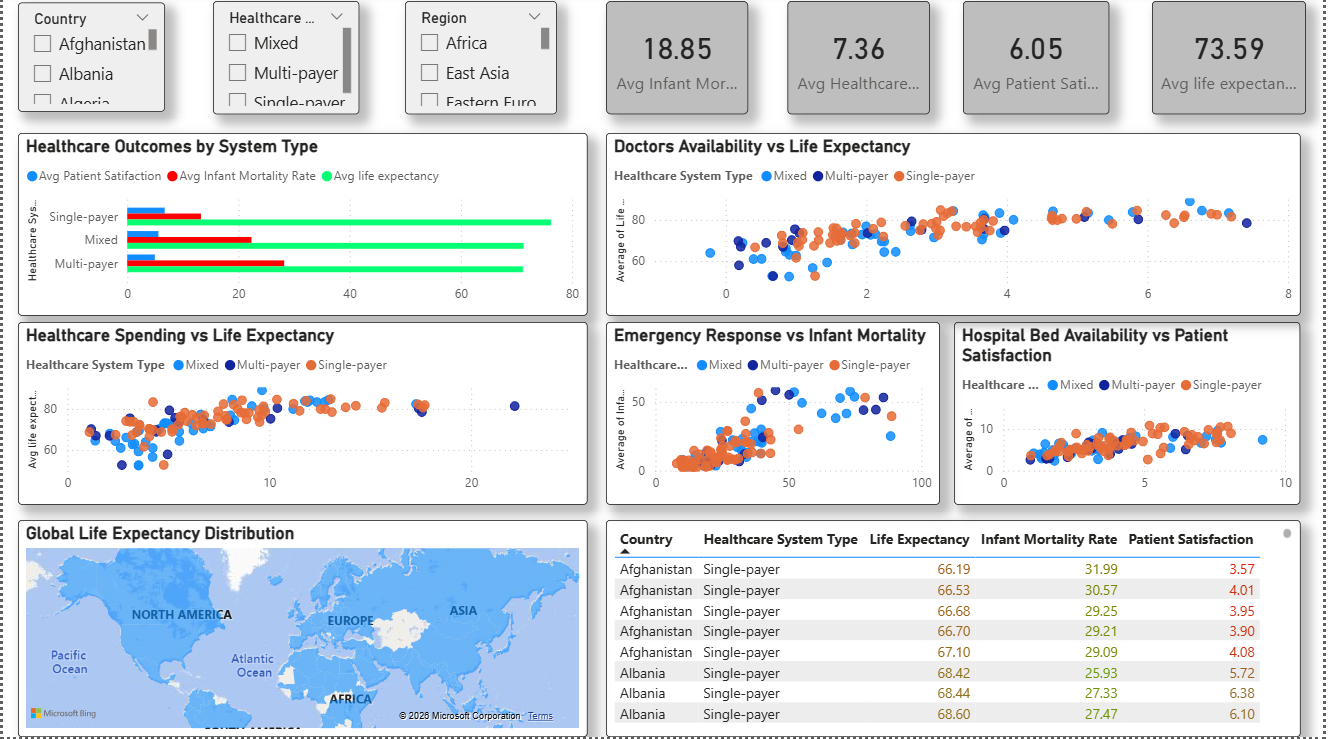

The page's visual inventory and layout, read from the dashboard file:
{"tool":"powerbi","page":{"name":"Page 1","canvas":[1280,720],"ordinal":0},"visuals":[{"type":"card","fields":{"Values":["Healthcare_System_Performance_Dataset.Average Infant Mortality Rate"]},"box":[584.8,5.7,138.2,109.8],"z":0},{"type":"card","fields":{"Values":["Healthcare_System_Performance_Dataset.Avg life expectancy"]},"box":[1114.7,5.7,149.5,109.8],"z":1000},{"type":"card","fields":{"Values":["Healthcare_System_Performance_Dataset.Avg Healthcare spending"]},"box":[760.8,5.7,138.2,109.8],"z":2000},{"type":"card","fields":{"Values":["Healthcare_System_Performance_Dataset.Average Patient Satifaction score"]},"box":[931.1,5.7,141.9,109.8],"z":3000},{"type":"clusteredBarChart","title":"Healthcare Outcomes by System Type","fields":{"Category":["Healthcare_System_Performance_Dataset.Healthcare System Type"],"Y":["Healthcare_System_Performance_Dataset.Average Patient Satifaction score","Healthcare_System_Performance_Dataset.Average Infant Mortality Rate","Healthcare_System_Performance_Dataset.Avg life expectancy"]},"box":[15.1,133.3,552.7,177.2],"z":4000},{"type":"tableEx","fields":{"Values":["Healthcare_System_Performance_Dataset.Country","Healthcare_System_Performance_Dataset.Healthcare System Type","Healthcare_System_Performance_Dataset.Life Expectancy","Healthcare_System_Performance_Dataset.Infant Mortality Rate","Healthcare_System_Performance_Dataset.Patient Satisfaction"]},"box":[584.5,508.8,673.8,210.5],"z":5000},{"type":"slicer","fields":{"Values":["Healthcare_System_Performance_Dataset.Country"]},"box":[14.6,7.3,142.6,106.3],"z":6000},{"type":"slicer","fields":{"Values":["Healthcare_System_Performance_Dataset.Healthcare System Type"]},"box":[204.4,5.7,141.9,109.8],"z":7000},{"type":"slicer","fields":{"Values":["Healthcare_System_Performance_Dataset.Region"]},"box":[389.9,5.7,147.6,109.8],"z":8000},{"type":"scatterChart","title":"Healthcare Spending vs Life Expectancy","fields":{"Y":["Healthcare_System_Performance_Dataset.Avg life expectancy"],"Series":["Healthcare_System_Performance_Dataset.Healthcare System Type"],"X":["Healthcare_System_Performance_Dataset.Avg Healthcare spending(%GDP)"],"Category":["Healthcare_System_Performance_Dataset.Country"]},"box":[15.1,318,552.7,177.2],"z":9000},{"type":"filledMap","title":"Global Life Expectancy Distribution","fields":{"Category":["Healthcare_System_Performance_Dataset.Country"]},"box":[15.1,508.8,552.7,210.5],"z":10000},{"type":"scatterChart","title":"Hospital Bed Availability vs Patient Satisfaction","fields":{"X":["Avg(Healthcare_System_Performance_Dataset.Hospital Beds per 1,000 People)"],"Y":["Avg(Healthcare_System_Performance_Dataset.Patient Satisfaction)"],"Category":["Healthcare_System_Performance_Dataset.Country"],"Series":["Healthcare_System_Performance_Dataset.Healthcare System Type"]},"box":[922.2,318,336.2,177.2],"z":11000},{"type":"scatterChart","title":"Doctors Availability vs Life Expectancy","fields":{"X":["Avg(Healthcare_System_Performance_Dataset.Doctors per 1,000 People)"],"Category":["Healthcare_System_Performance_Dataset.Country"],"Y":["Avg(Healthcare_System_Performance_Dataset.Life Expectancy)"],"Series":["Healthcare_System_Performance_Dataset.Healthcare System Type"]},"box":[584.5,133.3,673.8,177.2],"z":12000},{"type":"scatterChart","title":"Emergency Response vs Infant Mortality","fields":{"X":["Avg(Healthcare_System_Performance_Dataset.Emergency Response Time (Minutes))"],"Category":["Healthcare_System_Performance_Dataset.Country"],"Y":["Avg(Healthcare_System_Performance_Dataset.Infant Mortality Rate)"],"Series":["Healthcare_System_Performance_Dataset.Healthcare System Type"]},"box":[584.5,318,324,177.2],"z":13000}]}

Visuals, with their boxes in screenshot pixels (x1, y1, x2, y2), scaled from the page's 1280x720 canvas onto the 1330x739 screenshot:
card - Healthcare_System_Performance_Dataset.Average Infant Mortality Rate: {"x1": 608, "y1": 6, "x2": 751, "y2": 119}
card - Healthcare_System_Performance_Dataset.Avg life expectancy: {"x1": 1158, "y1": 6, "x2": 1314, "y2": 119}
card - Healthcare_System_Performance_Dataset.Avg Healthcare spending: {"x1": 791, "y1": 6, "x2": 934, "y2": 119}
card - Healthcare_System_Performance_Dataset.Average Patient Satifaction score: {"x1": 967, "y1": 6, "x2": 1115, "y2": 119}
"Healthcare Outcomes by System Type" clusteredBarChart: {"x1": 16, "y1": 137, "x2": 590, "y2": 319}
tableEx - Healthcare_System_Performance_Dataset.Country x Healthcare_System_Performance_Dataset.Healthcare System Type: {"x1": 607, "y1": 522, "x2": 1307, "y2": 738}
slicer - Healthcare_System_Performance_Dataset.Country: {"x1": 15, "y1": 7, "x2": 163, "y2": 117}
slicer - Healthcare_System_Performance_Dataset.Healthcare System Type: {"x1": 212, "y1": 6, "x2": 360, "y2": 119}
slicer - Healthcare_System_Performance_Dataset.Region: {"x1": 405, "y1": 6, "x2": 558, "y2": 119}
"Healthcare Spending vs Life Expectancy" scatterChart: {"x1": 16, "y1": 326, "x2": 590, "y2": 508}
"Global Life Expectancy Distribution" filledMap: {"x1": 16, "y1": 522, "x2": 590, "y2": 738}
"Hospital Bed Availability vs Patient Satisfaction" scatterChart: {"x1": 958, "y1": 326, "x2": 1308, "y2": 508}
"Doctors Availability vs Life Expectancy" scatterChart: {"x1": 607, "y1": 137, "x2": 1307, "y2": 319}
"Emergency Response vs Infant Mortality" scatterChart: {"x1": 607, "y1": 326, "x2": 944, "y2": 508}
